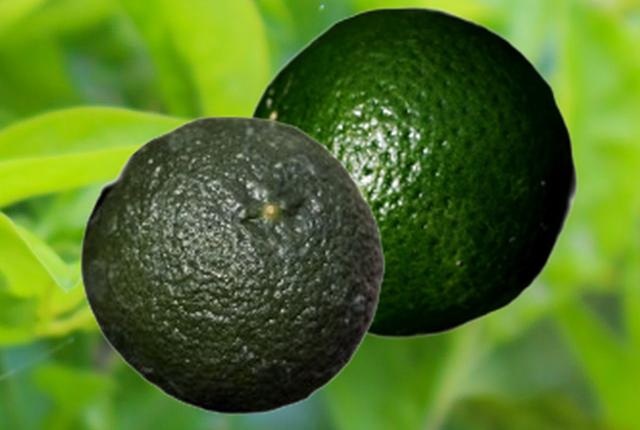calamansi: (246, 5, 578, 338), (79, 115, 385, 414)
